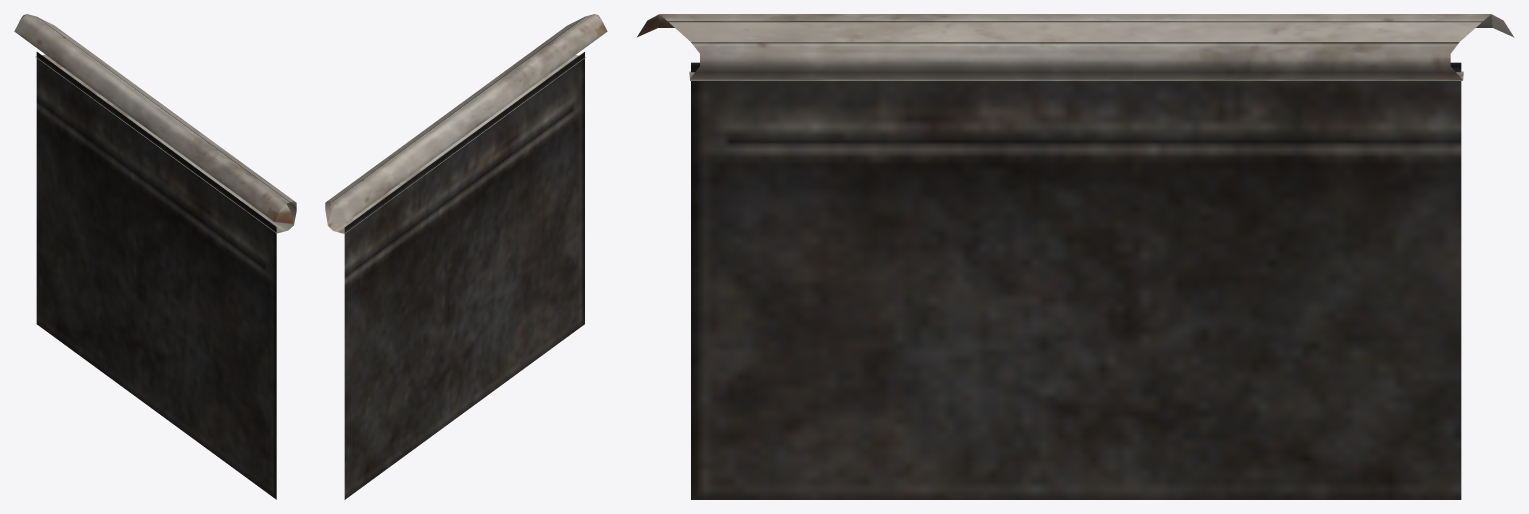
File: lab_pipes_box_end.dae
3 renders of one model, left to right at view 1: azimuth 30°, elevation 25°; view 2: azimuth 150°, elevation 25°; view 3: azimuth 270°, elevation 25°, orthographic. The views are drawn at different scales.
Parts seen in each view (by area): view 1: polySurface10, polySurface12; view 2: polySurface10, polySurface12; view 3: polySurface10, polySurface12.
Boxes of the visible parts, <box> form: polySurface10: <box>36,52,276,499</box>; polySurface12: <box>14,14,296,233</box>; polySurface10: <box>344,52,584,499</box>; polySurface12: <box>325,14,607,233</box>; polySurface10: <box>691,62,1461,499</box>; polySurface12: <box>636,14,1514,80</box>.
Size of the model in its own units: 0.1266 by 1.04 by 1.71.
